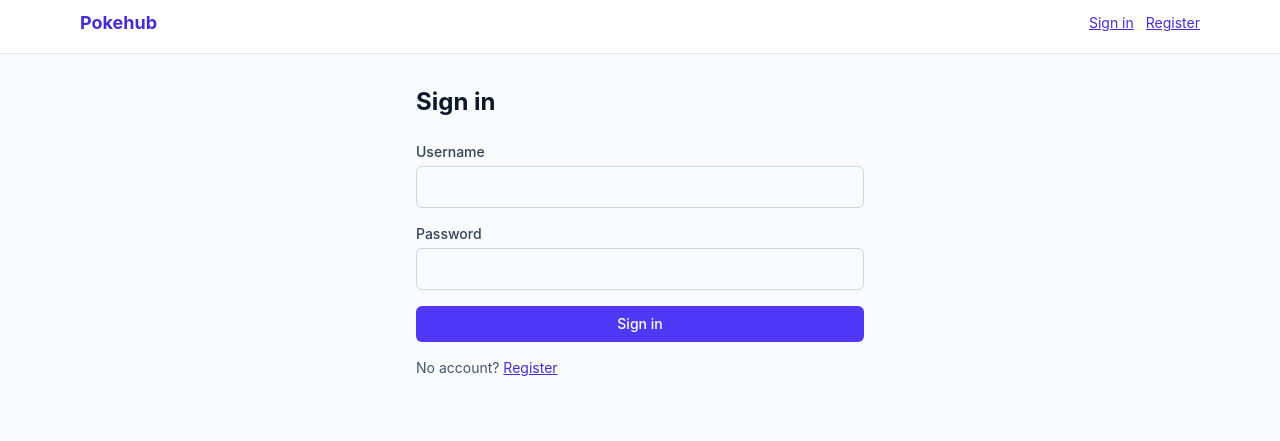
Test: LoginPage › shows validation messages for weak credentials
The image size is (1280, 441).
Step 1. Type "ab" into the field labelled "Username" → [640, 187], box x1=416 y1=166 x2=864 y2=208
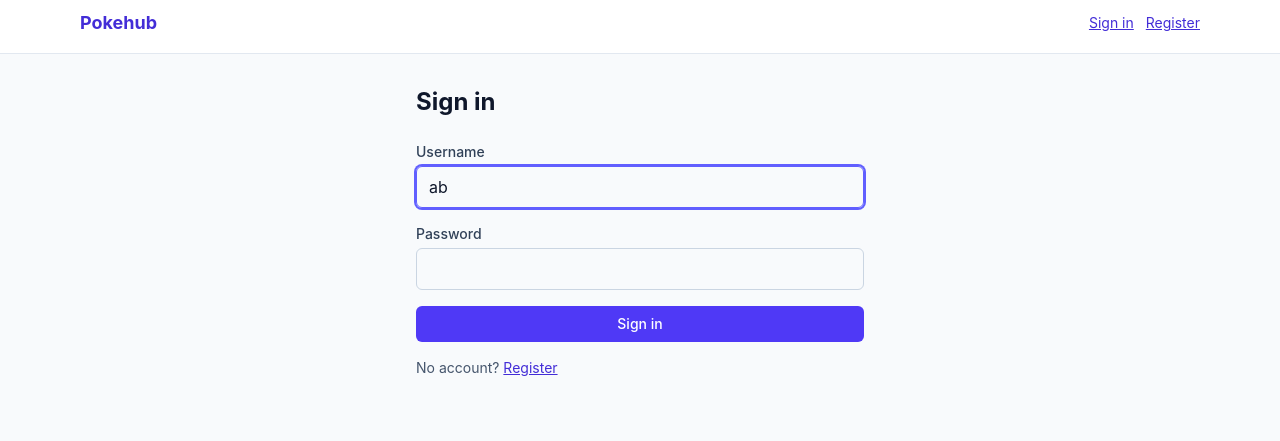
Step 2. Type "short" into the password field labelled "Password" → [640, 269], box x1=416 y1=248 x2=864 y2=290
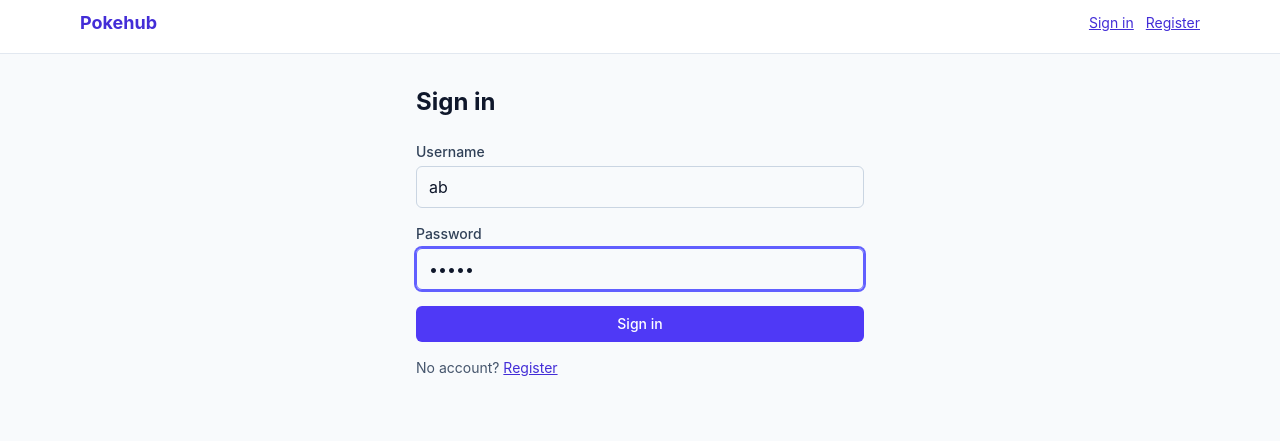
Step 3. Click the button "Sign in" → [640, 324], box x1=416 y1=306 x2=864 y2=342
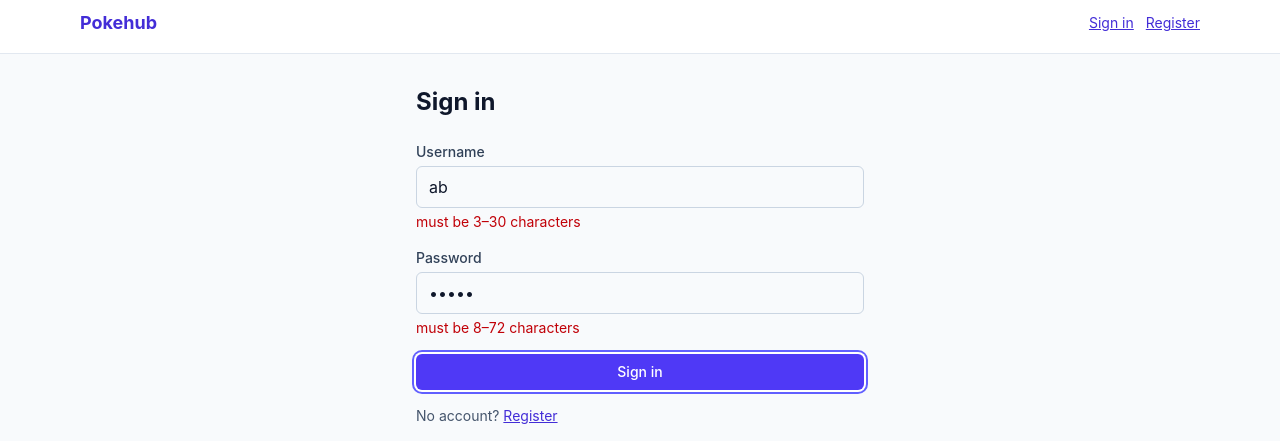
Now the text "must be 3–30 characters" is shown, box x1=416 y1=213 x2=581 y2=230
Now the text "must be 8–72 characters" is shown, box x1=416 y1=319 x2=580 y2=336
